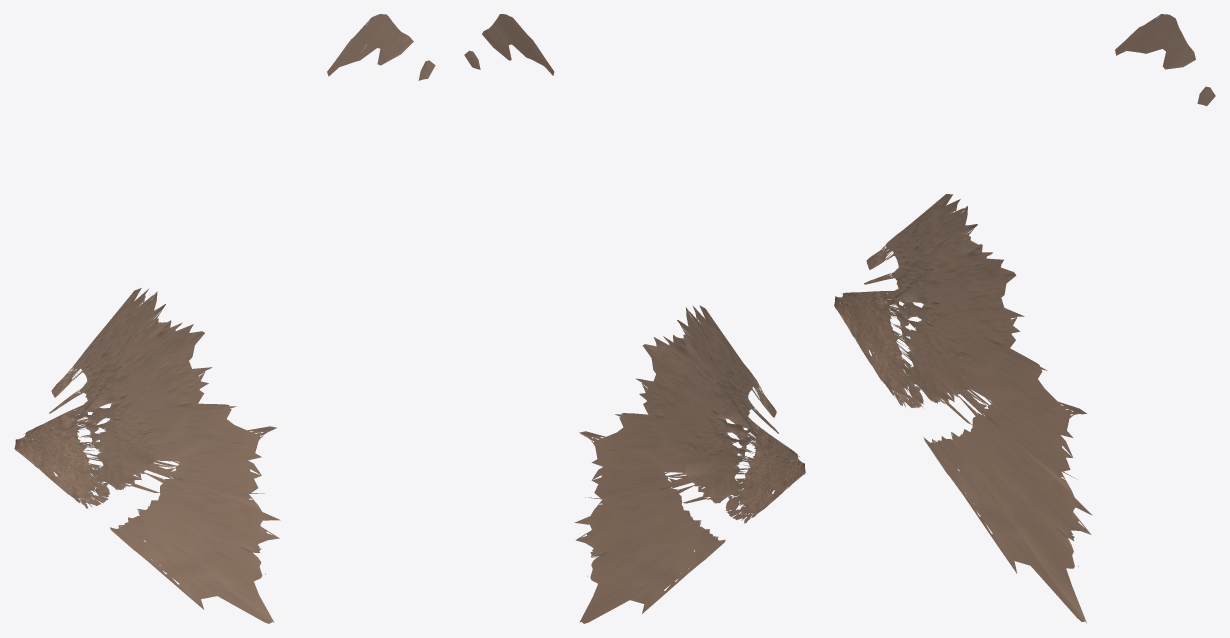
The model's file is context-0.glb.
The picture shows the model from 3 angles, left to right: view 1: azimuth 30°, elevation 25°; view 2: azimuth 150°, elevation 25°; view 3: azimuth 330°, elevation 25°; orthographic projection. The views are drawn at different scales.
Size of the model in its own units: 86.17 by 127 by 13.13.
1 material, 1 textured.
